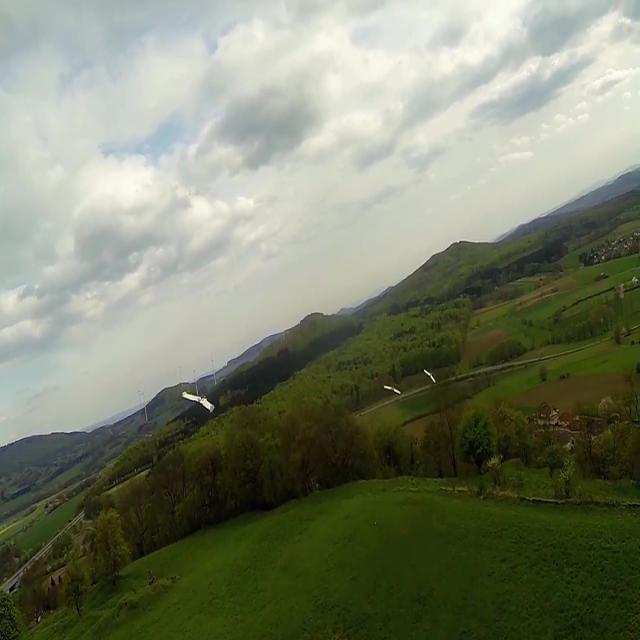iha: (175, 390, 209, 415), (423, 368, 436, 384), (377, 388, 395, 392)
